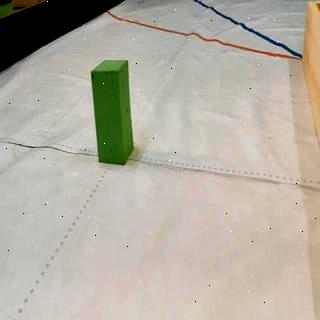greenbox: (90, 60, 133, 164)
